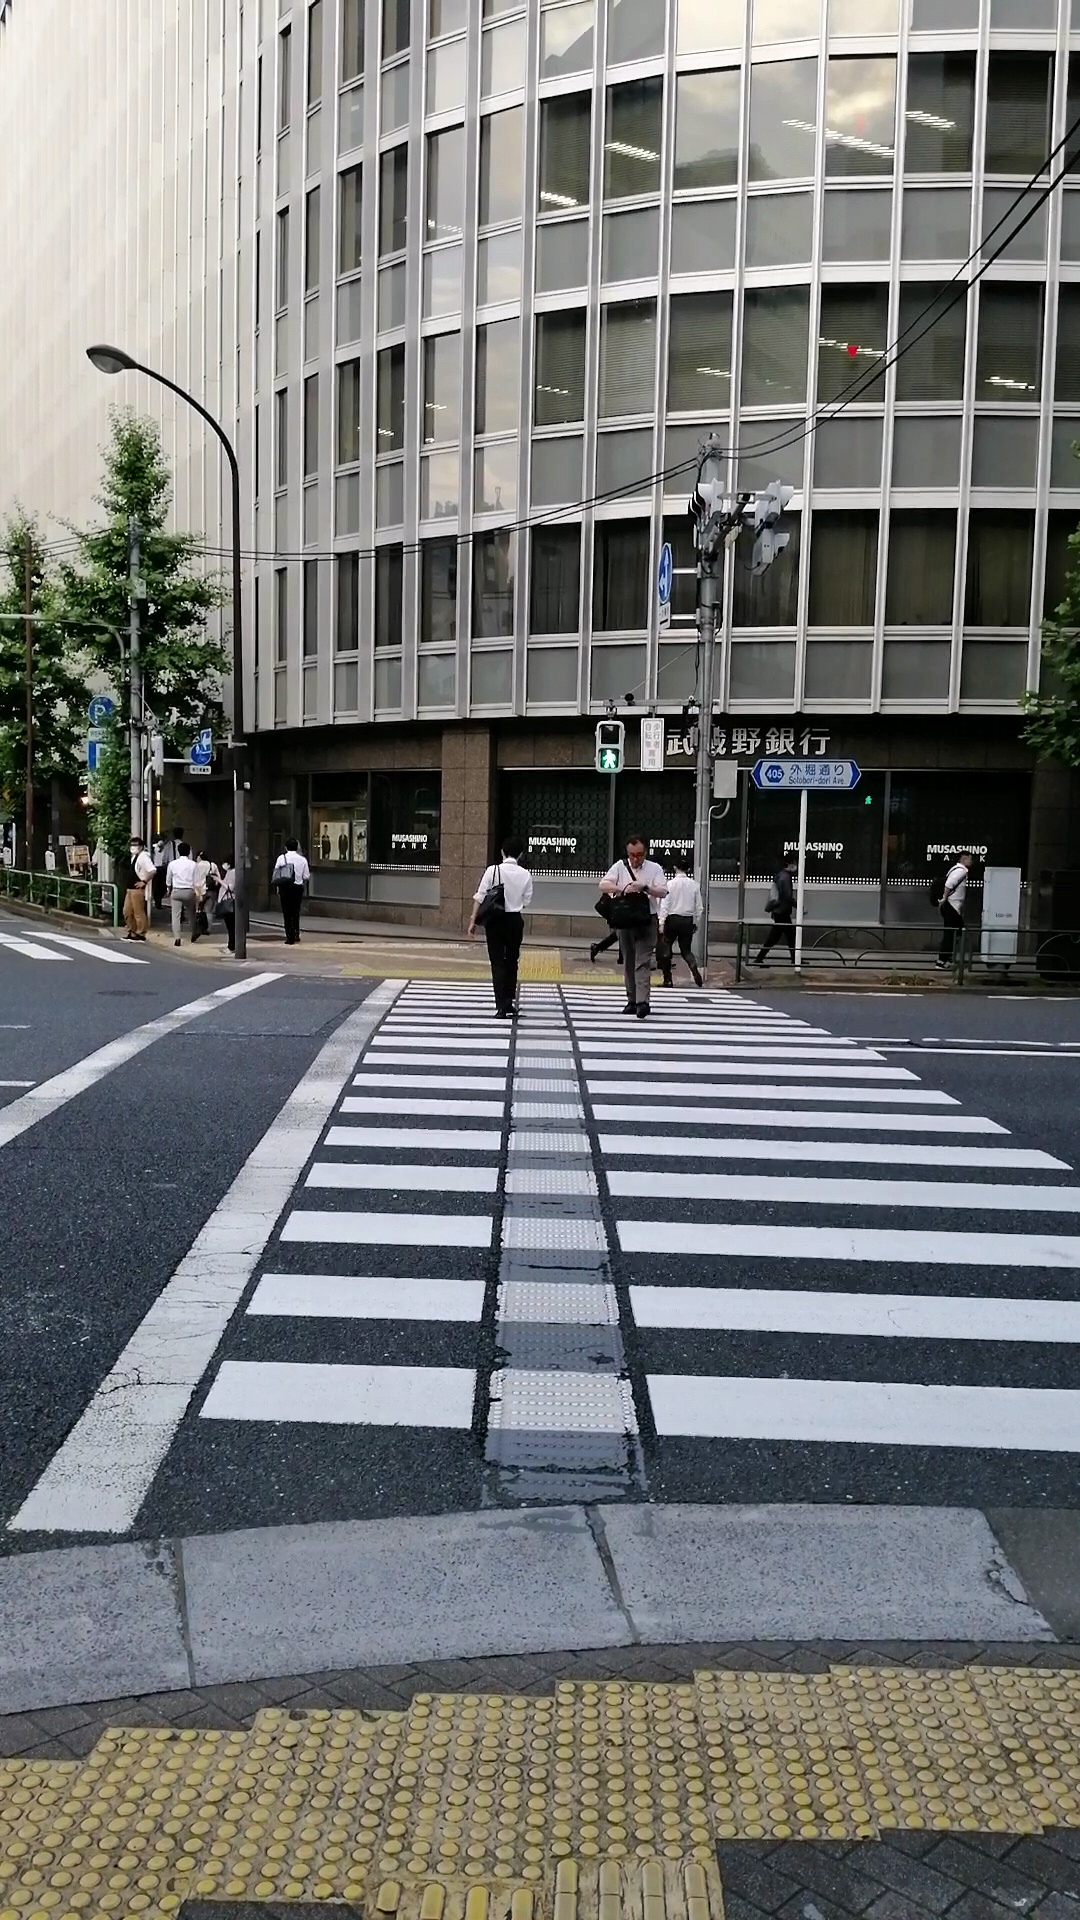green: (593, 719, 625, 773)
